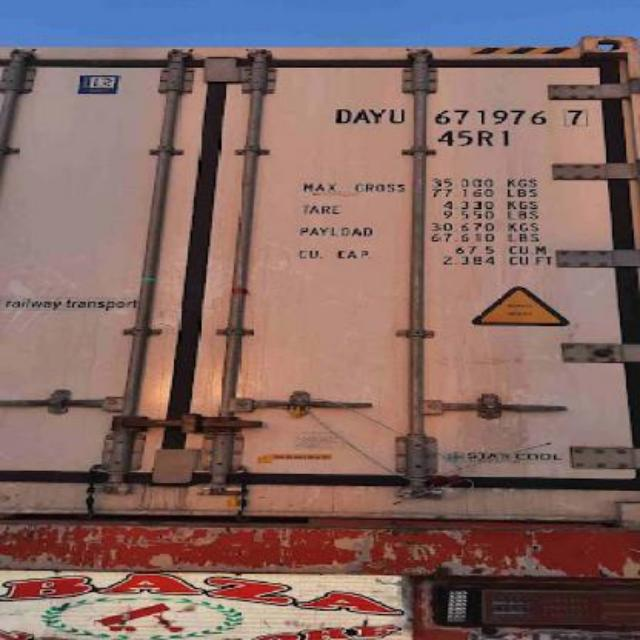1: (474, 109, 490, 127)
6: (528, 109, 548, 127), (434, 110, 452, 124)
7: (564, 108, 586, 126), (510, 108, 528, 128), (451, 108, 472, 124)
9: (490, 108, 510, 126)
A: (352, 108, 372, 126)
D: (334, 108, 354, 126)
U: (388, 108, 408, 126)
Y: (368, 108, 388, 124)
